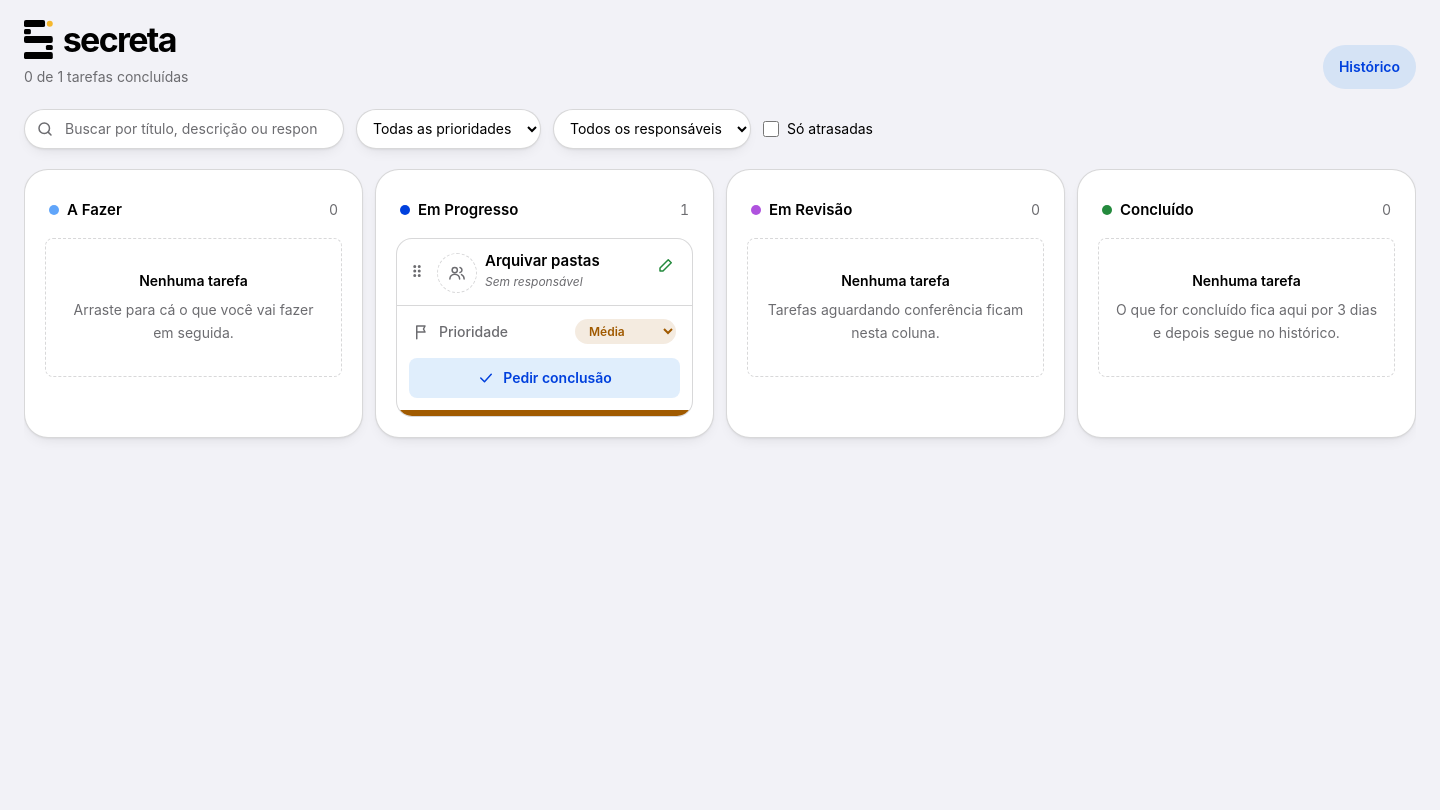
Test case: App › assistente não cria nem exclui, e pede a conclusão
Expected: the heading "Arquivar pastas" is shown, [485,251,600,270]
What coordinates should you click on to do the following:
click the button with aria-label "Pedir conclusão de Arquivar pastas"
I would click on:
 (544, 378)
Its box is [409,358,680,398].
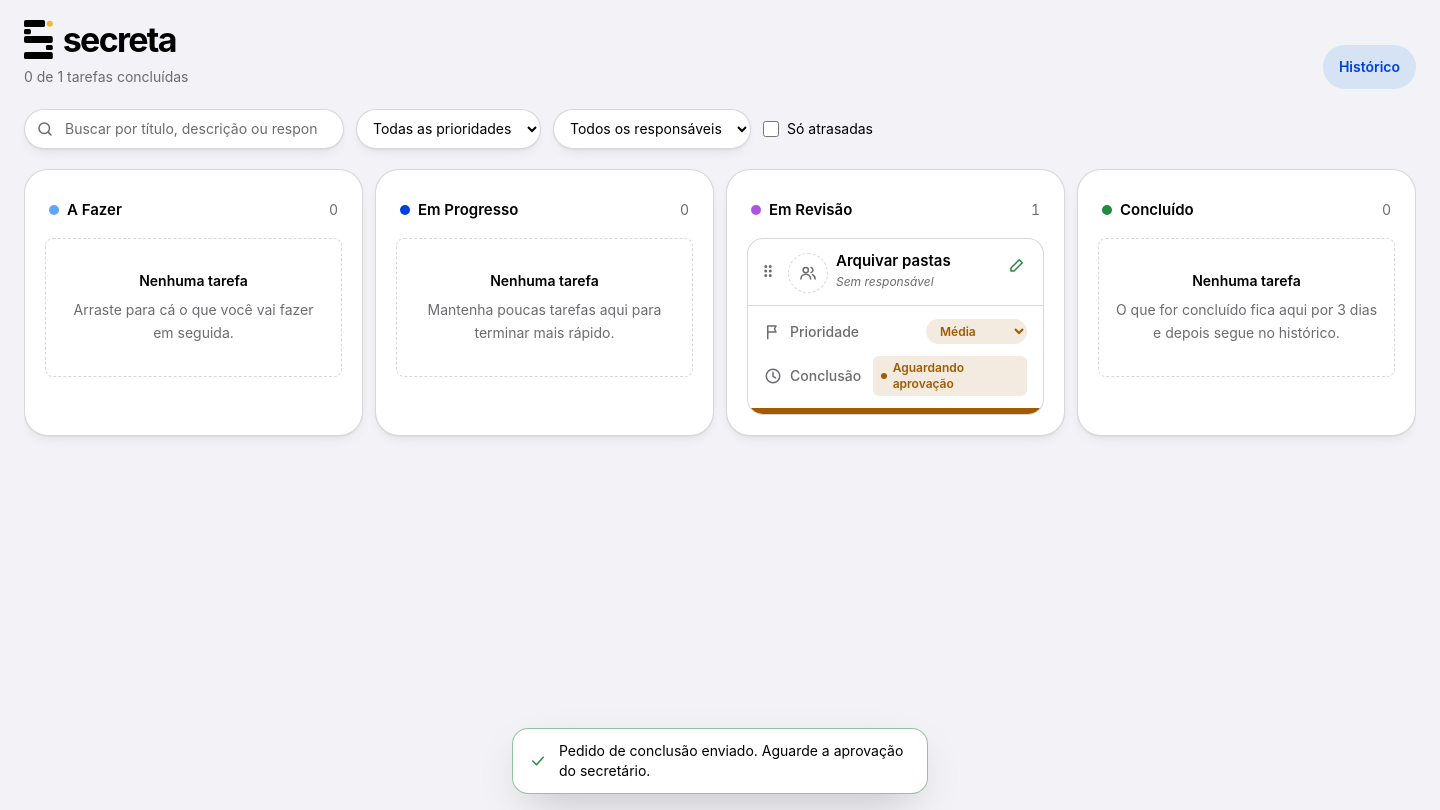
Now the text "Aguardando aprovação" is shown, box [873,356,1027,396]
